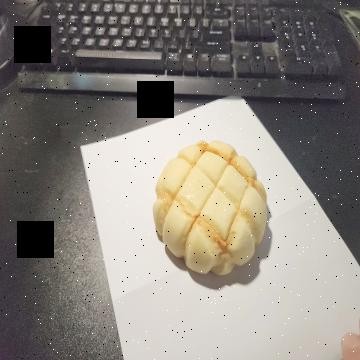melon_bread: (153, 140, 268, 277)
